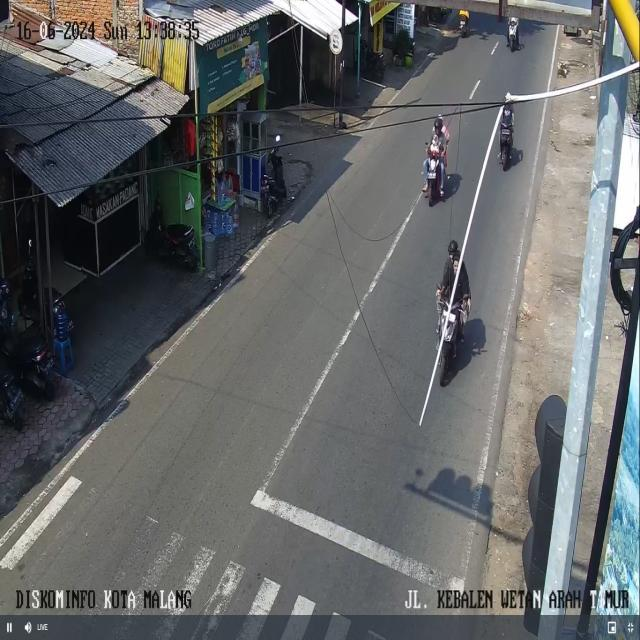Helmet: (434, 115, 444, 132), (448, 240, 458, 254)
